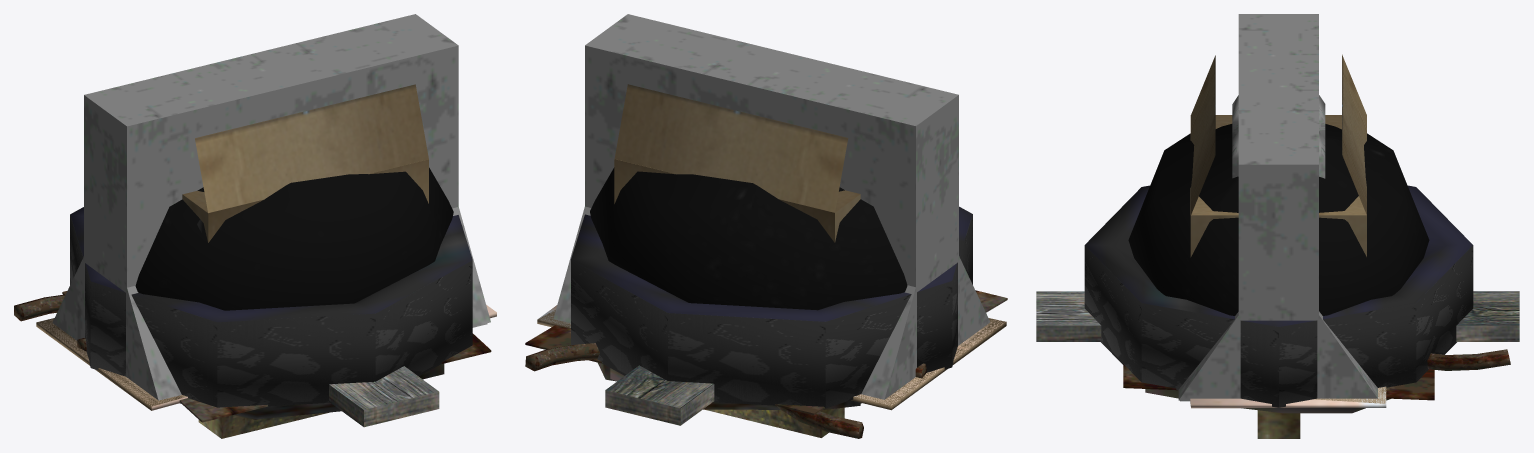
Rendered from TrashAndDebris.fbx.
The picture shows the model from 3 angles, left to right: view 1: azimuth 30°, elevation 25°; view 2: azimuth 150°, elevation 25°; view 3: azimuth 270°, elevation 25°; orthographic projection. The views are drawn at different scales.
Visible parts, largest first — view 1: Barriar, TrashBag_1, Wheel_1, Wheel_2, CardboardBox_2, Wooden_Plank_1, CardboardBox_1, Concrete_Debris_2, Cardboard_Cutout_1, Sheet_Metal_1, GasCan, Cardboard_Cutout_2; view 2: Barriar, TrashBag_1, Wheel_1, Wheel_2, CardboardBox_2, Wooden_Plank_1, Concrete_Debris_2, Cardboard_Cutout_1, CardboardBox_1, GasCan, Sheet_Metal_1, Cardboard_Cutout_2; view 3: Barriar, TrashBag_1, Wheel_1, Wheel_2, CardboardBox_2, Wooden_Plank_1, CardboardBox_1, Cardboard_Cutout_2, Sheet_Metal_1, Concrete_Debris_2, GasCan, Cinder_Block_1 (+1 smaller).
Boxes of the visible parts, x1,y1,x2,y2 form: Barriar: (52, 14, 490, 400); TrashBag_1: (135, 167, 453, 310); Wheel_1: (70, 207, 472, 407); Wheel_2: (70, 207, 472, 406); CardboardBox_2: (182, 84, 428, 240); Wooden_Plank_1: (329, 366, 439, 427); CardboardBox_1: (182, 159, 428, 242); Concrete_Debris_2: (14, 295, 341, 419); Cardboard_Cutout_1: (36, 318, 186, 410); Sheet_Metal_1: (62, 291, 491, 422); GasCan: (198, 412, 329, 438); Cardboard_Cutout_2: (38, 305, 496, 410); Barriar: (553, 14, 990, 399); TrashBag_1: (590, 167, 907, 310); Wheel_1: (571, 206, 972, 408); Wheel_2: (571, 207, 972, 407); CardboardBox_2: (614, 84, 860, 242); Wooden_Plank_1: (605, 365, 714, 425); Concrete_Debris_2: (525, 343, 863, 438); Cardboard_Cutout_1: (537, 310, 1006, 410); CardboardBox_1: (614, 159, 860, 242); GasCan: (705, 407, 844, 437); Sheet_Metal_1: (525, 290, 1007, 415); Cardboard_Cutout_2: (538, 305, 1004, 405); Barriar: (1178, 14, 1377, 400); TrashBag_1: (1128, 124, 1429, 315); Wheel_1: (1084, 185, 1473, 407); Wheel_2: (1085, 186, 1472, 407); CardboardBox_2: (1190, 54, 1366, 255); Wooden_Plank_1: (1036, 291, 1519, 341); CardboardBox_1: (1190, 115, 1366, 257); Cardboard_Cutout_2: (1190, 387, 1386, 408); Sheet_Metal_1: (1123, 364, 1434, 400); Concrete_Debris_2: (1427, 349, 1510, 370); GasCan: (1257, 410, 1300, 438); Cinder_Block_1: (1232, 95, 1325, 178).
Bounding box in the file's own units: 2.04 × 1.86 × 2.53.
Materials: 17 (17 with a texture image).
